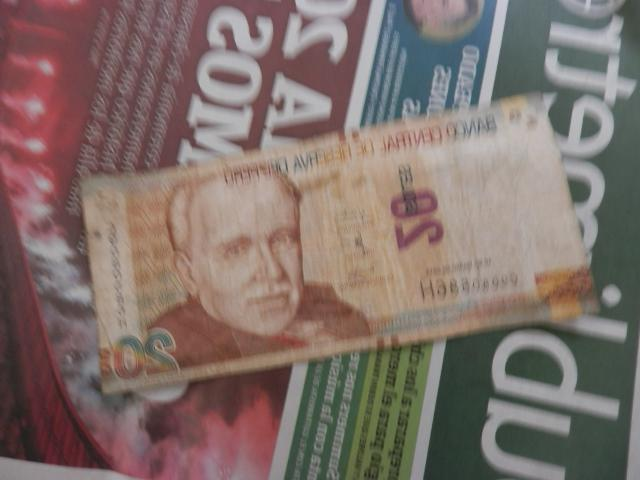B20: (80, 94, 601, 391)
